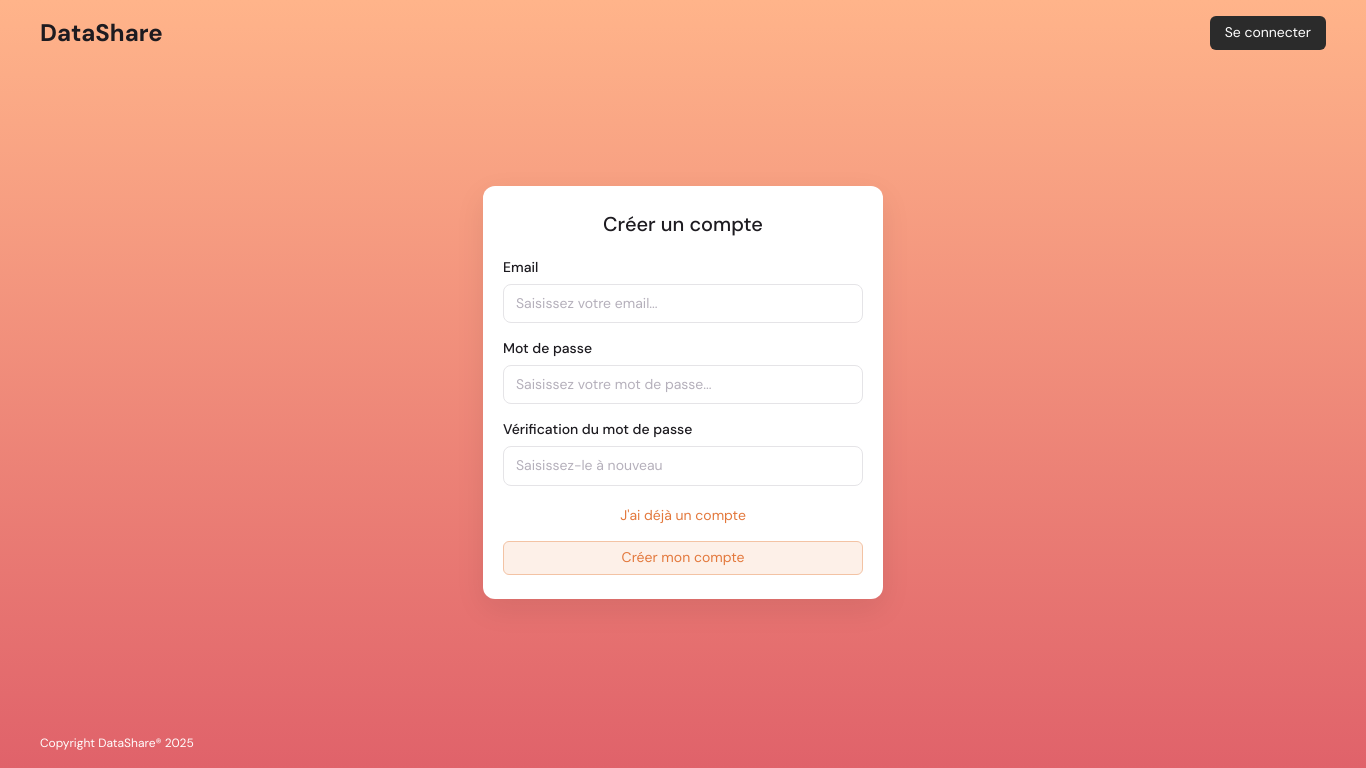
RegisterPage (US03) › shows the API error when the email is already taken
The image size is (1366, 768).
In the field labelled "Email": (683, 303) [503,284,863,323], type "alice@test.fr"
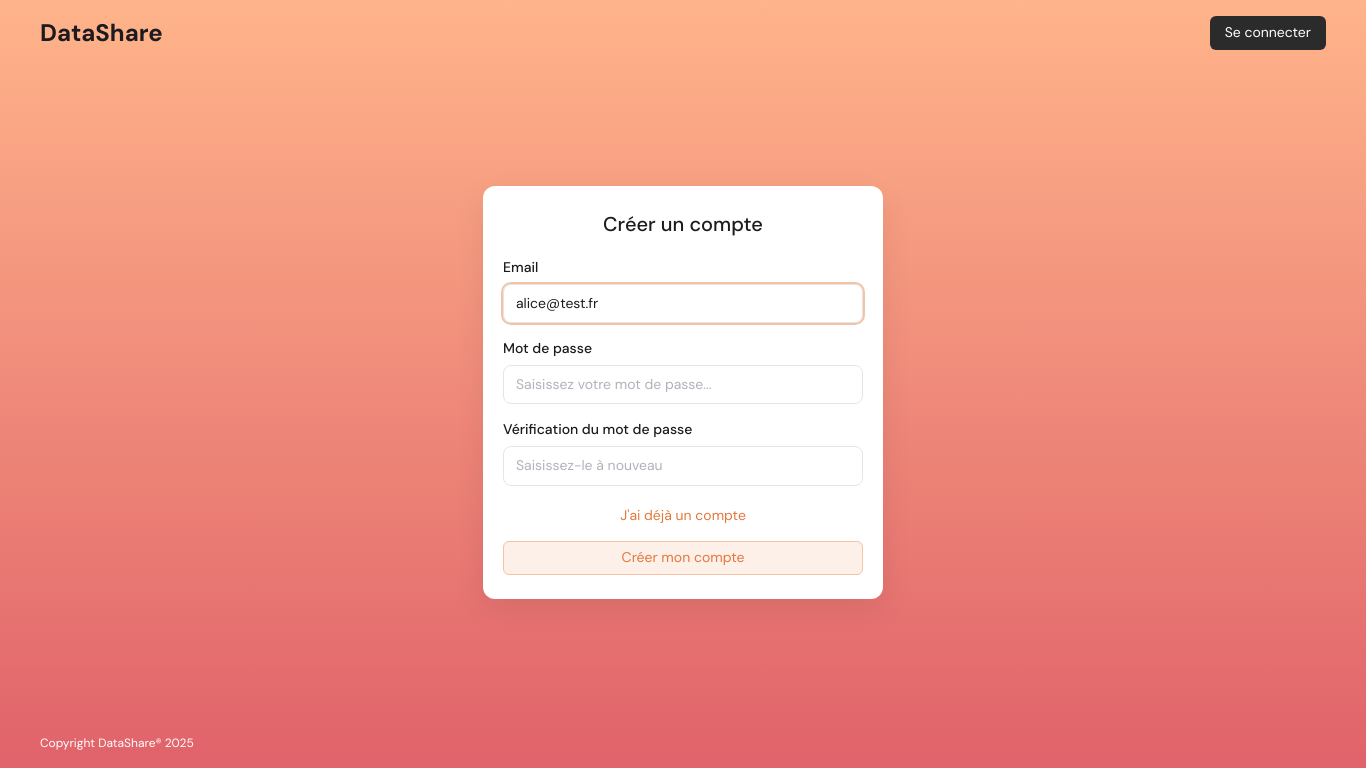
In the password field labelled "Mot de passe": (683, 385) [503,365,863,404], type "motdepasse"
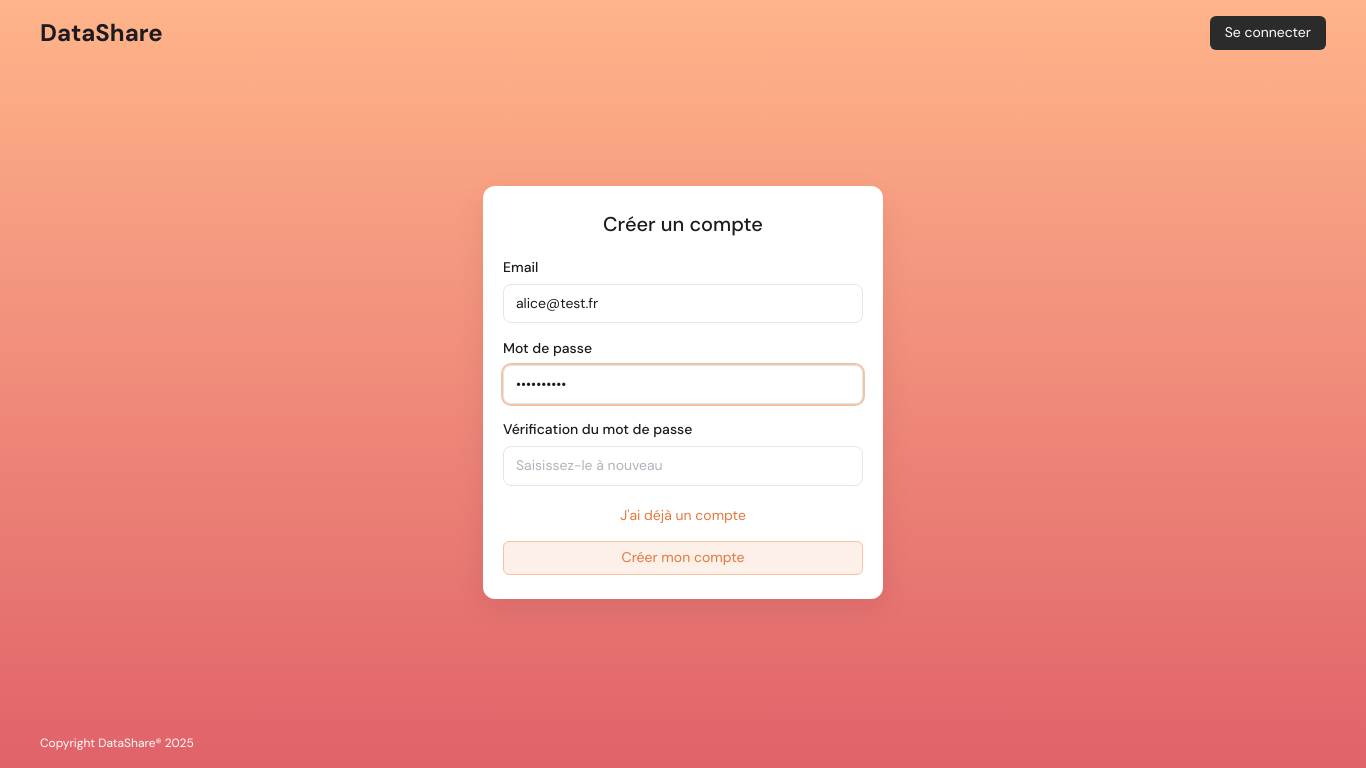
In the password field labelled "Vérification du mot de passe": (683, 466) [503,446,863,486], type "motdepasse"
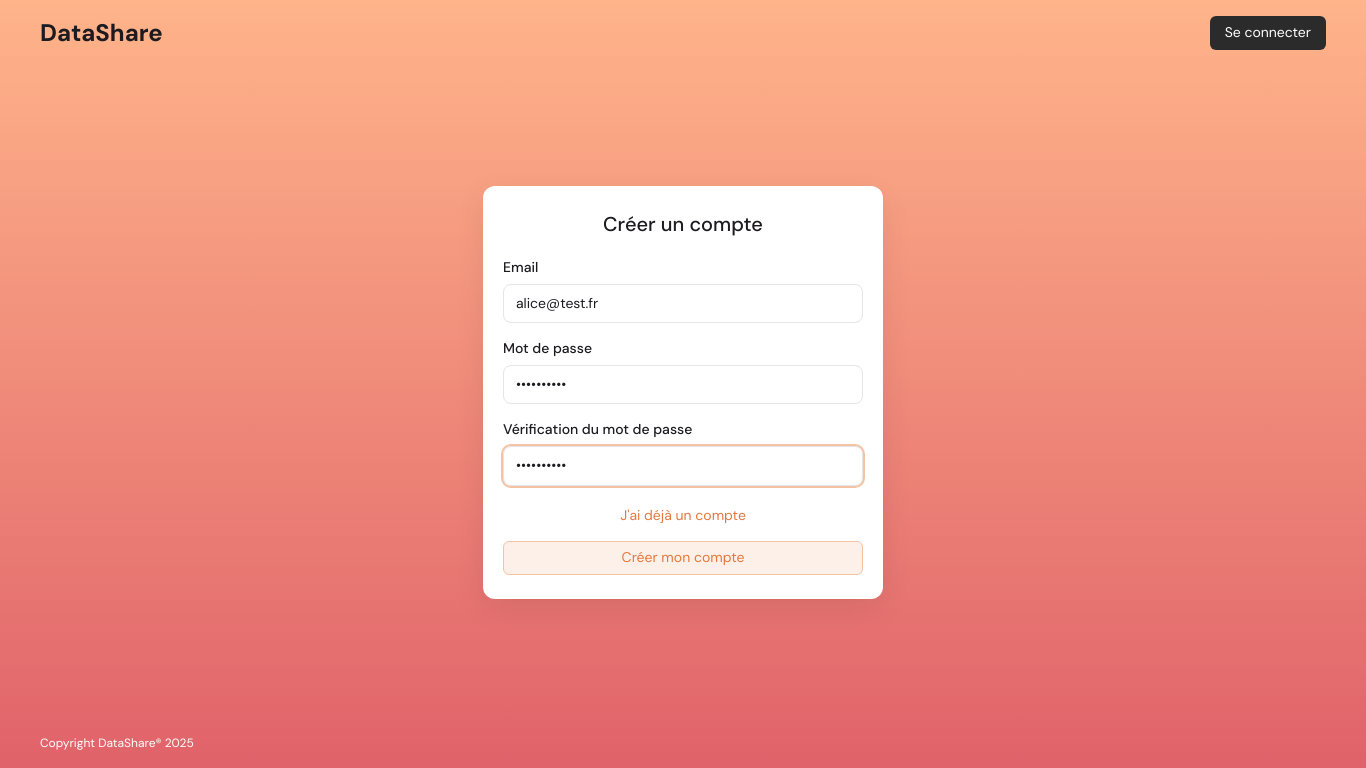
Click the button "Créer mon compte": (683, 558) [503,541,863,575]
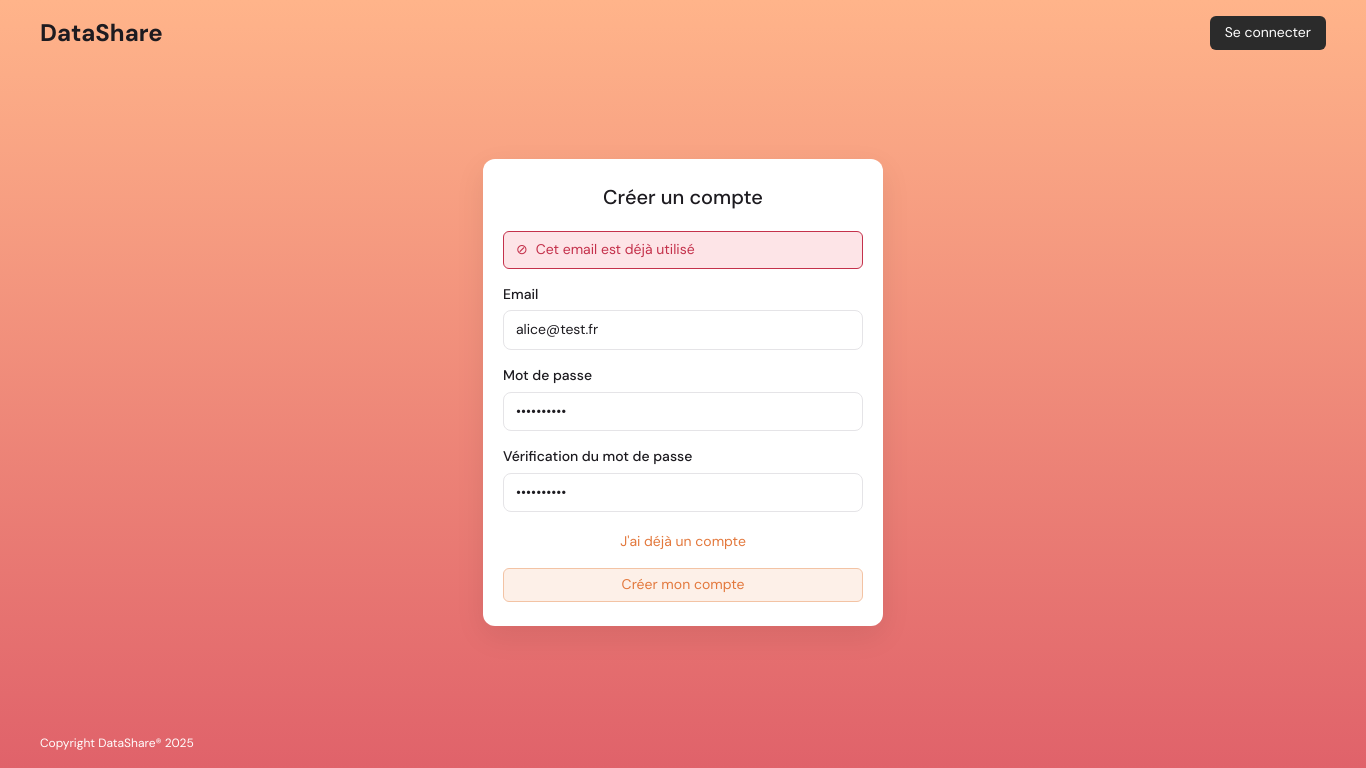
Expected: the message shows "Cet email est déjà utilisé", [536,240,695,258]
